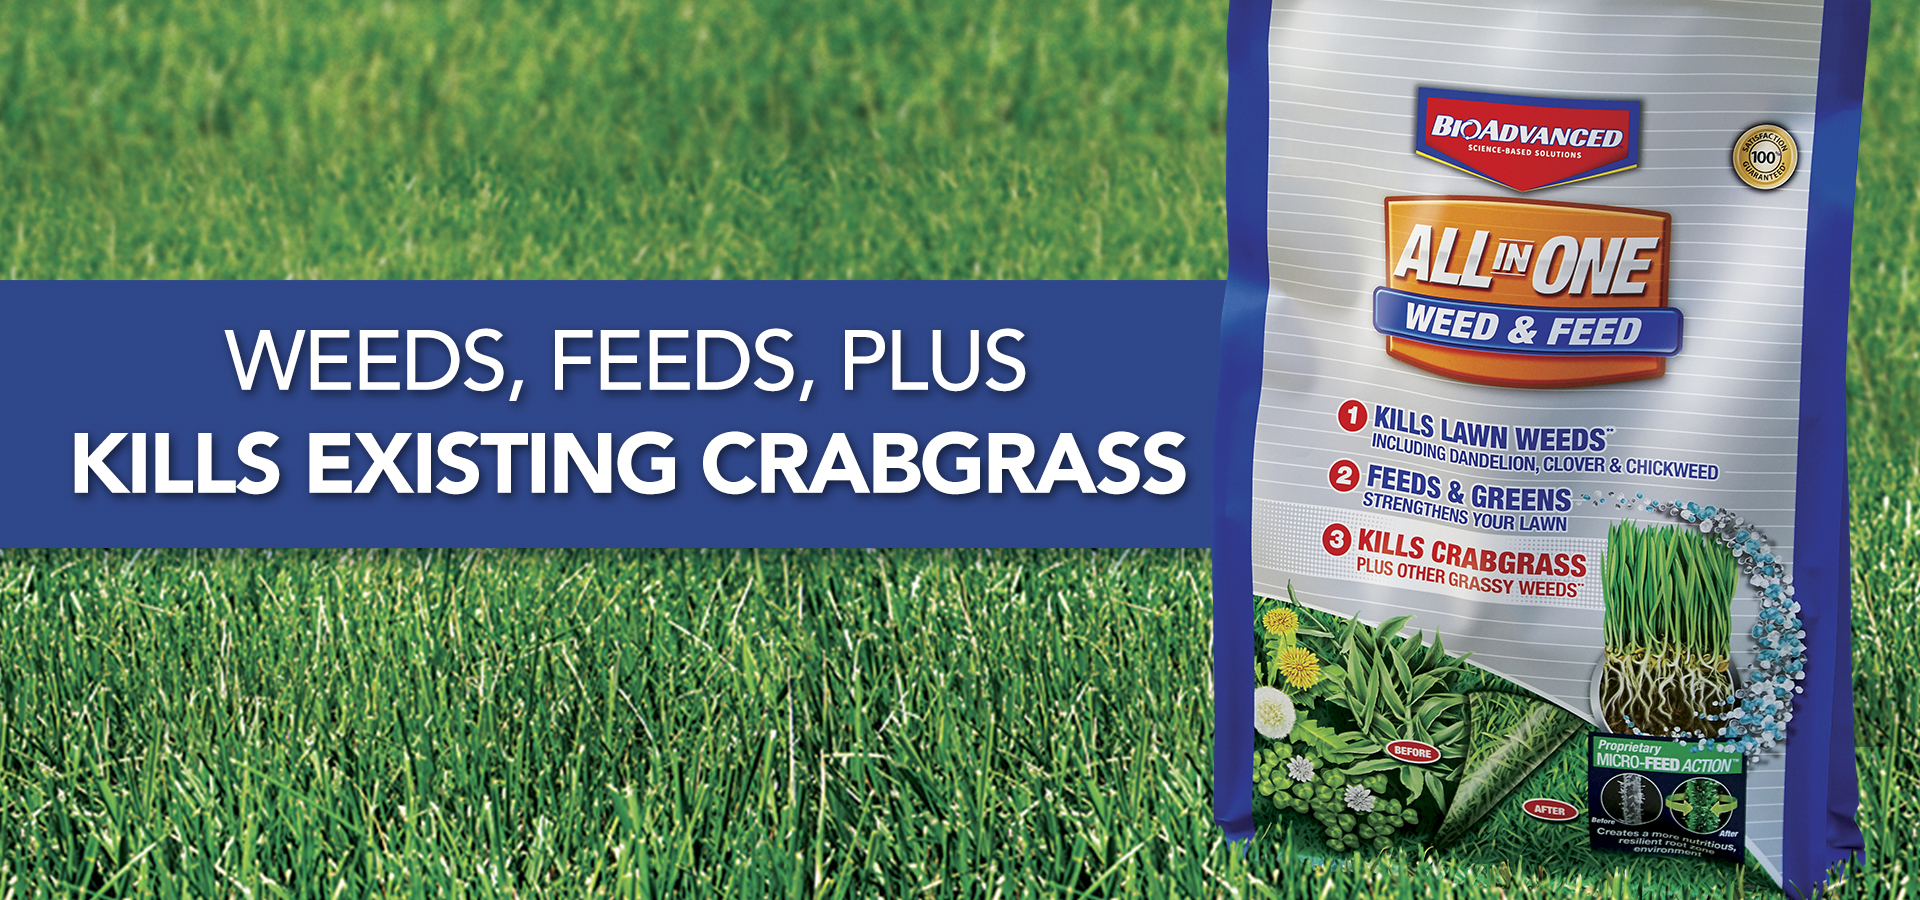crabgrass: (1311, 620, 1491, 787)
